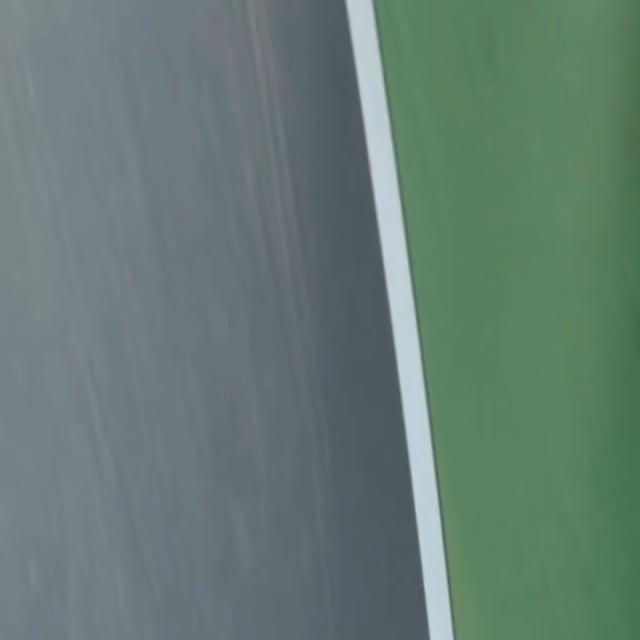right: (345, 0, 453, 639)
